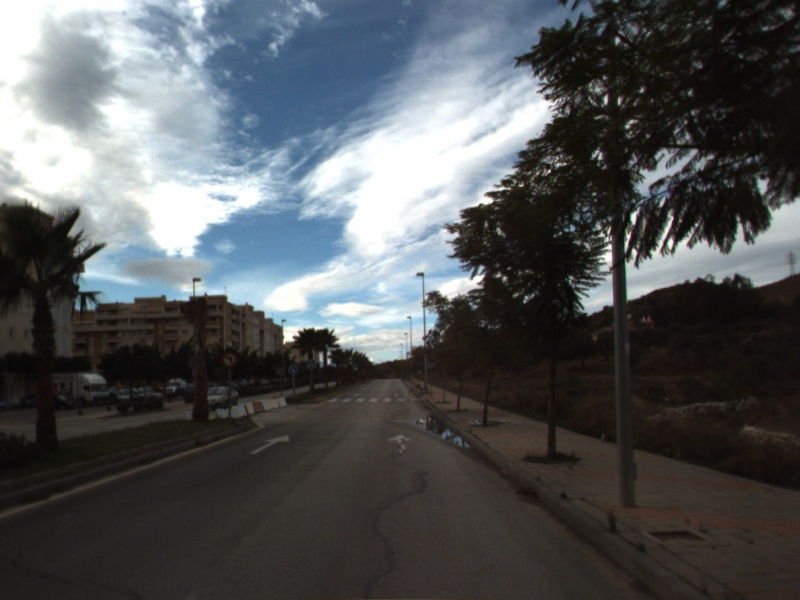STRAIGHT: (247, 433, 291, 456), (386, 432, 414, 456)
